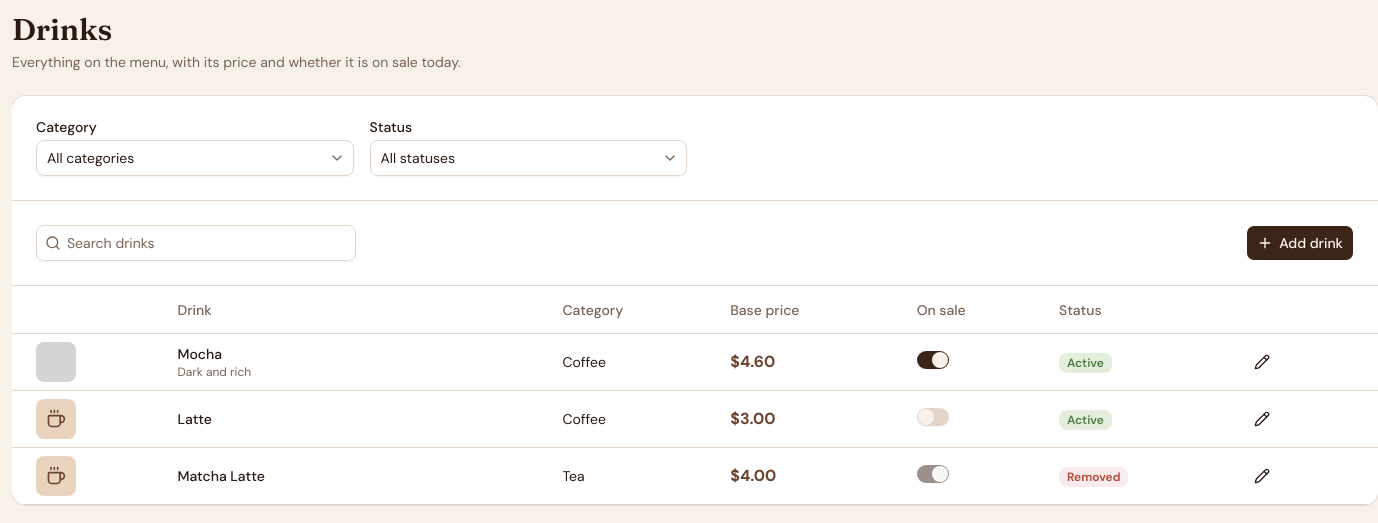
ProductsPage (FR-07, FR-22, FR-25) › the category filter keeps only that category
The width and height of the screenshot is (1378, 523).
expect the text "Mocha" is shown: met, box [178,345,222,363]
Click the dropdown named "Category".
click(91, 158)  # box [36,140,354,176]
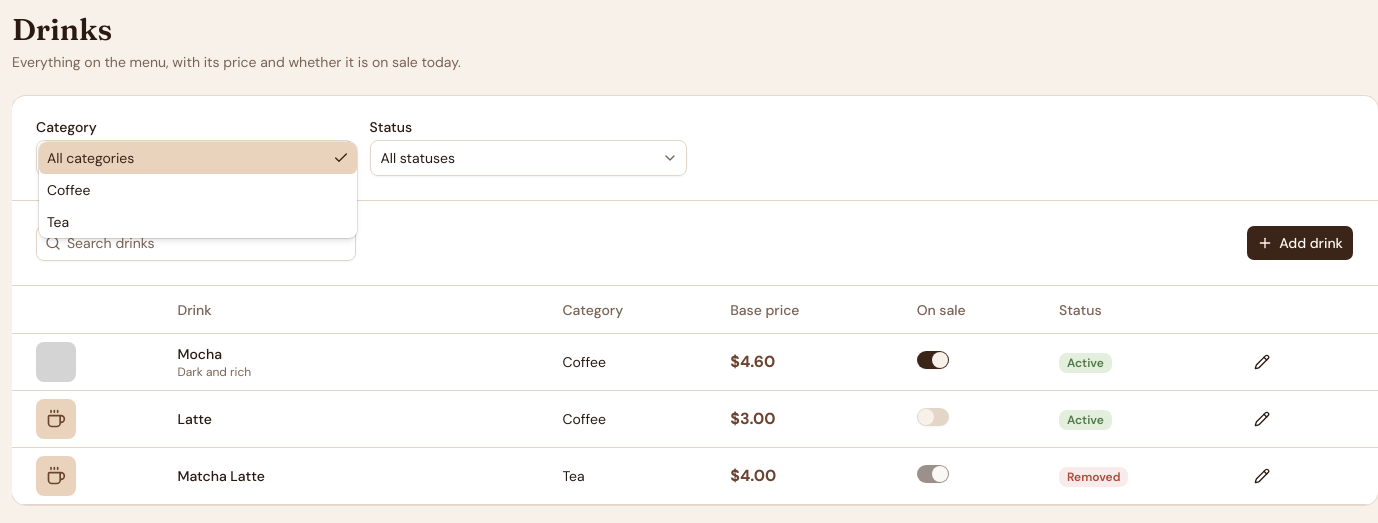
Click the option "Tea".
click(58, 222)  # box [47,213,69,231]
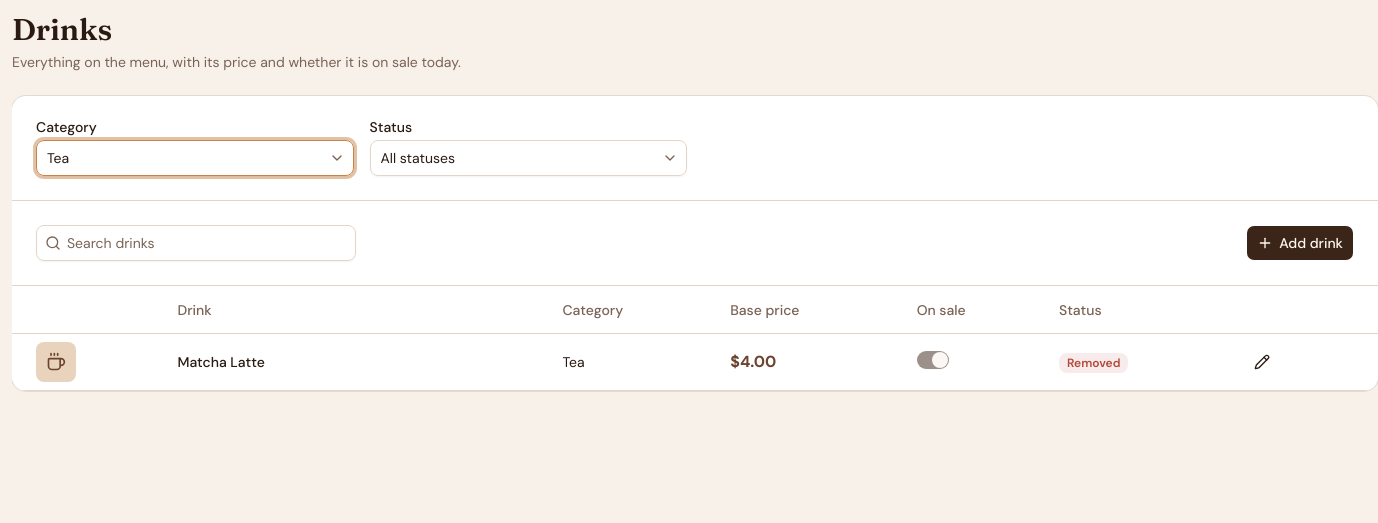
expect the text "Matcha Latte" is shown: met, box [178,353,265,371]
expect the text "Mocha" is gone: met
